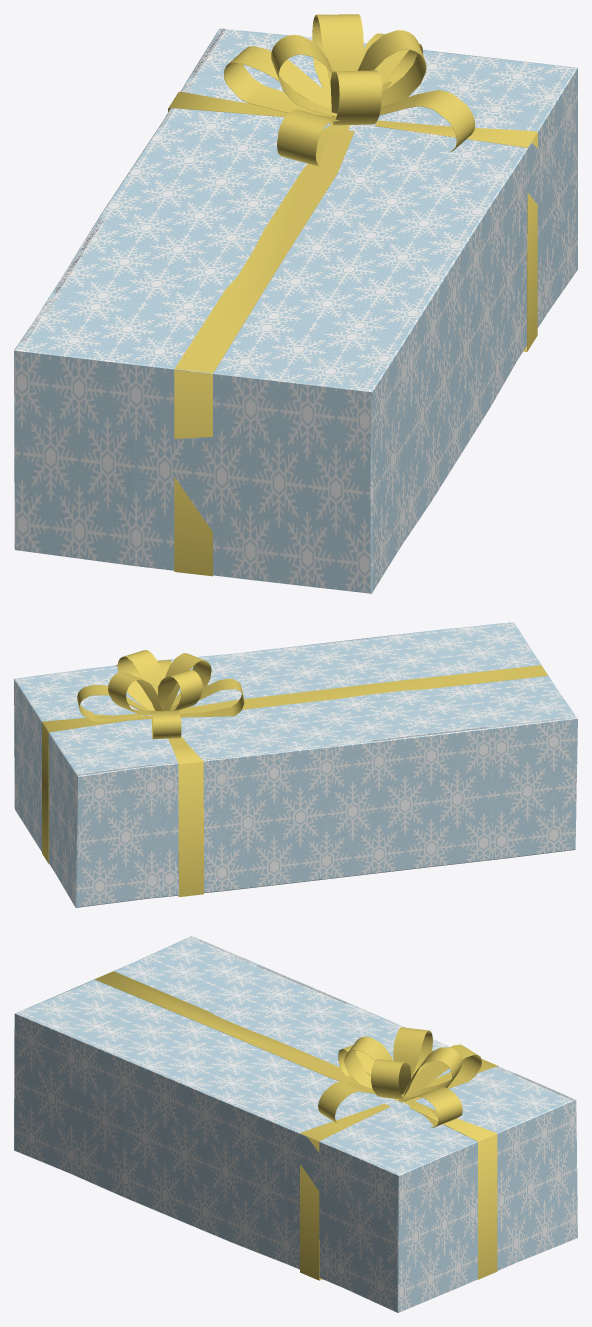
The model's file is Gift_box.glb.
3 renders of one model, top to bottom at view 1: azimuth 30°, elevation 25°; view 2: azimuth 150°, elevation 25°; view 3: azimuth 270°, elevation 25°, orthographic. The views are drawn at different scales.
Parts seen in each view (by area): view 1: 3d66-PolyMeshObject-21941471-002, 3d66-Editable_Poly-21941471-002; view 2: 3d66-PolyMeshObject-21941471-002, 3d66-Editable_Poly-21941471-002; view 3: 3d66-PolyMeshObject-21941471-002, 3d66-Editable_Poly-21941471-002.
Boxes of the visible parts, <box> form: 3d66-PolyMeshObject-21941471-002: <box>14,28,577,593</box>; 3d66-Editable_Poly-21941471-002: <box>168,14,537,576</box>; 3d66-PolyMeshObject-21941471-002: <box>14,622,577,907</box>; 3d66-Editable_Poly-21941471-002: <box>42,650,547,896</box>; 3d66-PolyMeshObject-21941471-002: <box>14,936,577,1312</box>; 3d66-Editable_Poly-21941471-002: <box>94,971,498,1280</box>.
Size of the model in its own units: 0.508 by 0.1932 by 0.5078.
Materials: 2 (1 with a texture image).
